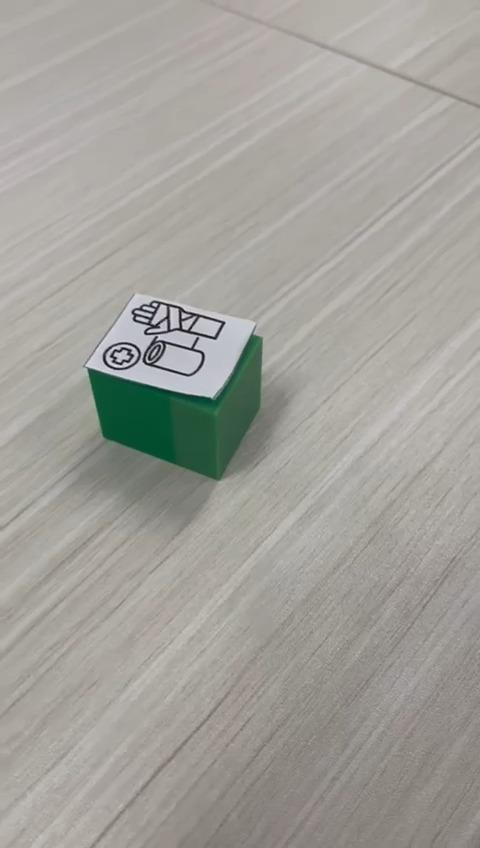Bandages: (84, 293, 263, 480)
